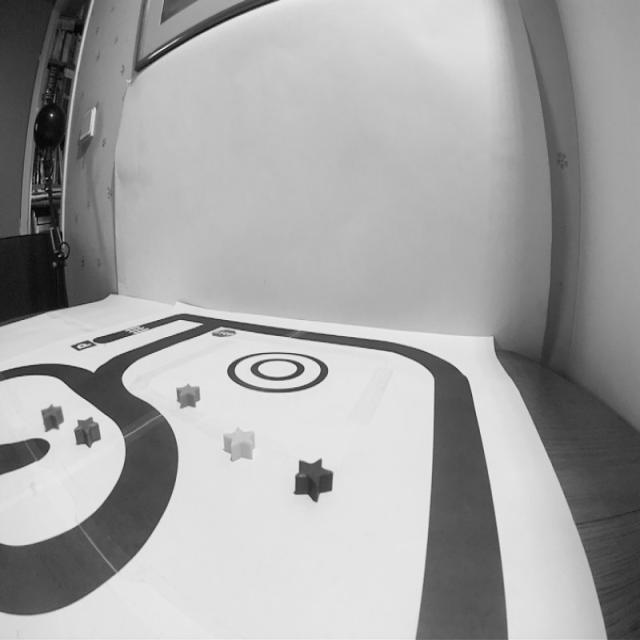cockade: (224, 348, 331, 396)
lineStraight: (395, 482, 521, 640)
star: (292, 455, 336, 503), (219, 423, 259, 466), (73, 412, 103, 450), (39, 401, 67, 435), (175, 379, 202, 414)
